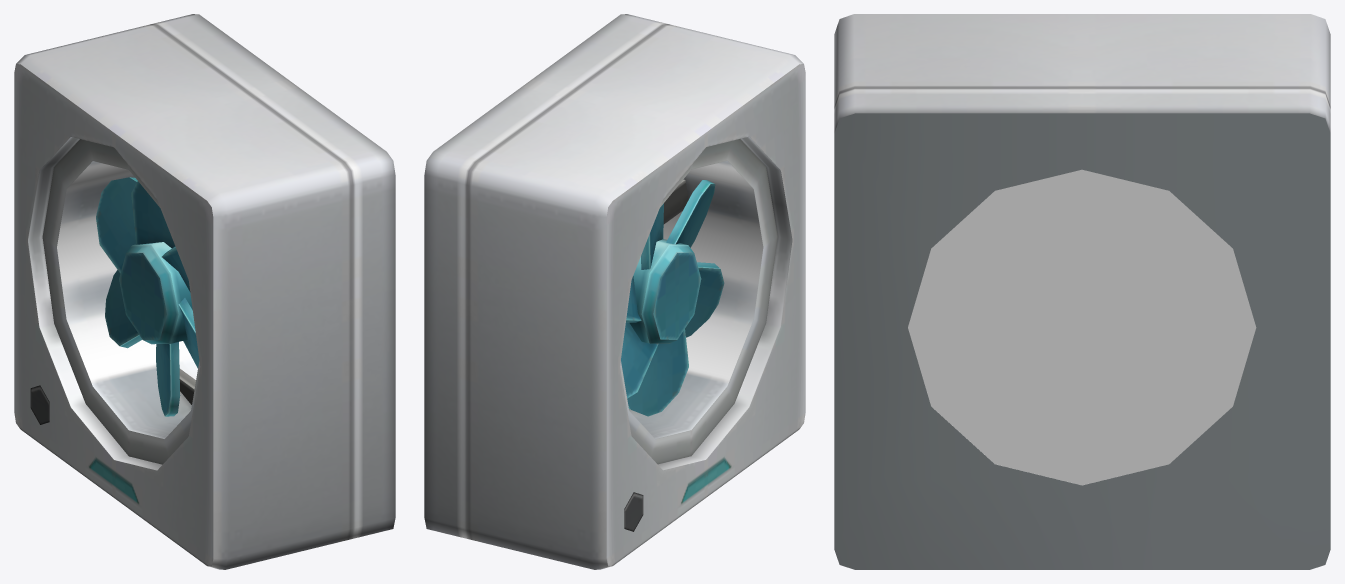
File: my_gamedevdept_01_wallacc_04.glb
3 views of the same model, side by side, from view 1: azimuth 30°, elevation 25°; view 2: azimuth 150°, elevation 25°; view 3: azimuth 270°, elevation 25° (orthographic). The views are drawn at different scales.
Parts seen in each view (by area): view 1: my_gamedevdept_01_wallacc_04; view 2: my_gamedevdept_01_wallacc_04; view 3: my_gamedevdept_01_wallacc_04.
Part boxes in pixels (bbox=[...]): my_gamedevdept_01_wallacc_04: bbox=[14, 14, 395, 569]; my_gamedevdept_01_wallacc_04: bbox=[424, 14, 805, 569]; my_gamedevdept_01_wallacc_04: bbox=[834, 14, 1330, 569].
Size of the model in its own units: 0.0016 by 0.0032 by 0.00315.
Materials: 1 (1 with a texture image).
